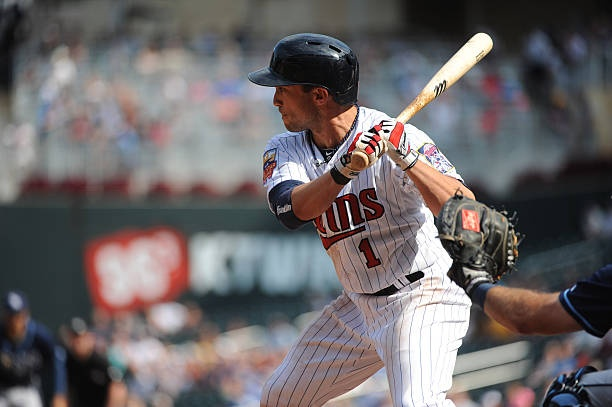bita: (365, 34, 492, 152)
